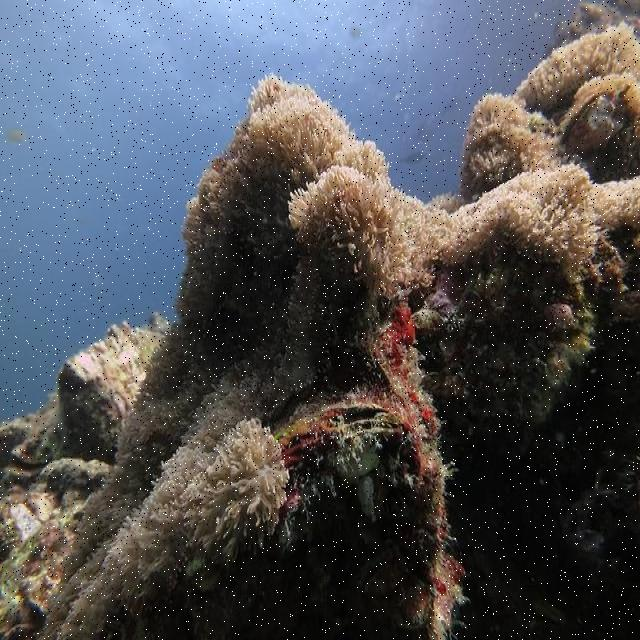reefs: (43, 3, 639, 638), (277, 305, 470, 638)
sea-floor: (379, 228, 639, 639), (95, 438, 446, 639), (0, 310, 172, 639)
